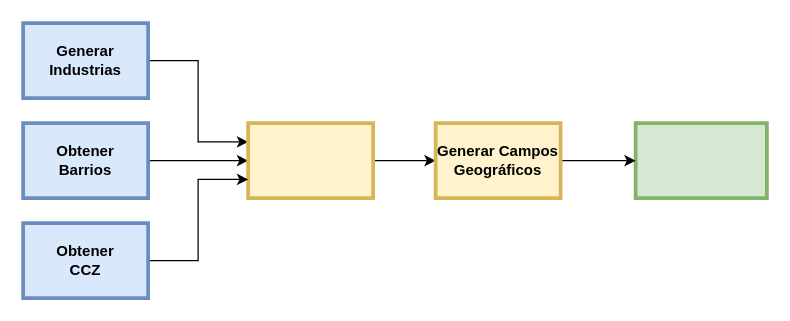
Image size: 790x321. Some labels were removed from this diagram. Each missing label, with the box of its shape:
Almacenar en DW: (633, 121, 768, 199)
Consolidar Datos: (246, 121, 374, 199)
